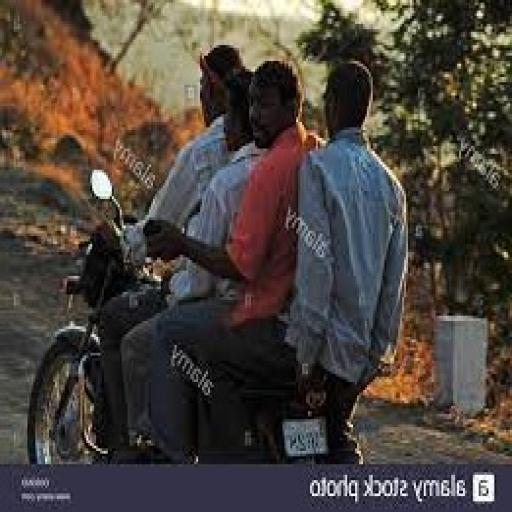helmet: (26, 164, 374, 464), (320, 56, 374, 135)
